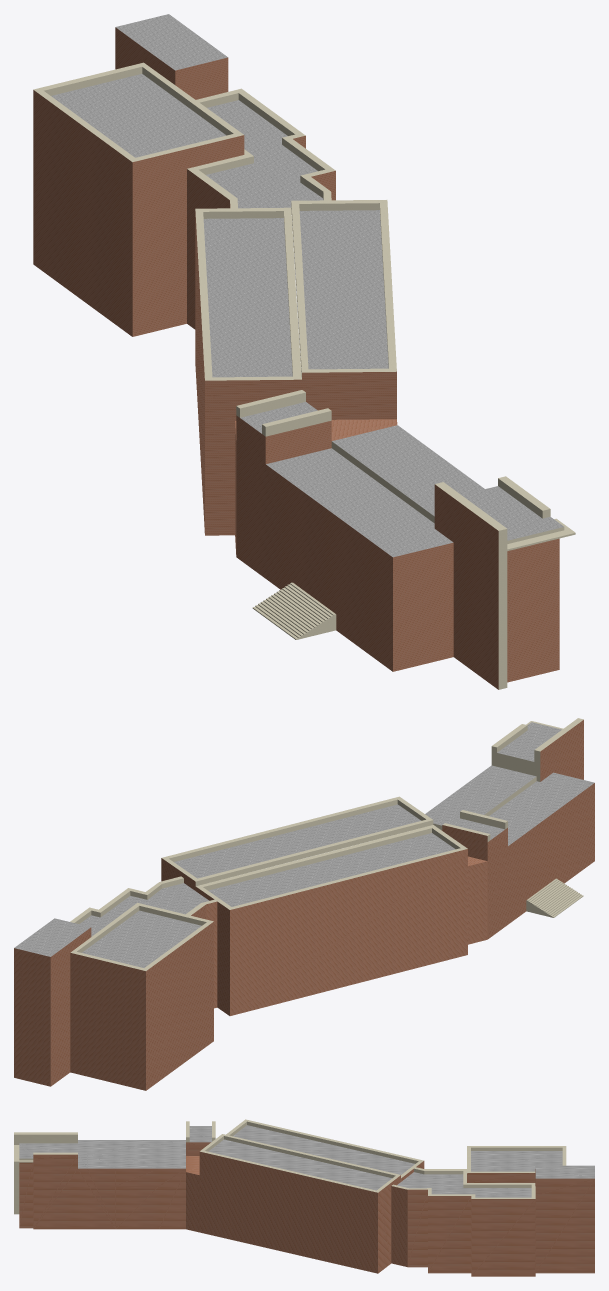
3 views of the same model, one above another, from view 1: azimuth 30°, elevation 25°; view 2: azimuth 150°, elevation 25°; view 3: azimuth 270°, elevation 25° (orthographic). The views are drawn at different scales.
Bounding box in the file's own units: 54.84 × 27.14 × 151.
Materials: 6 (4 with a texture image).
